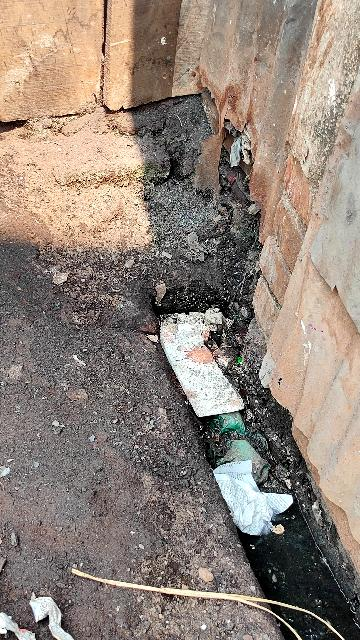cocksheet: (156, 307, 251, 427)
